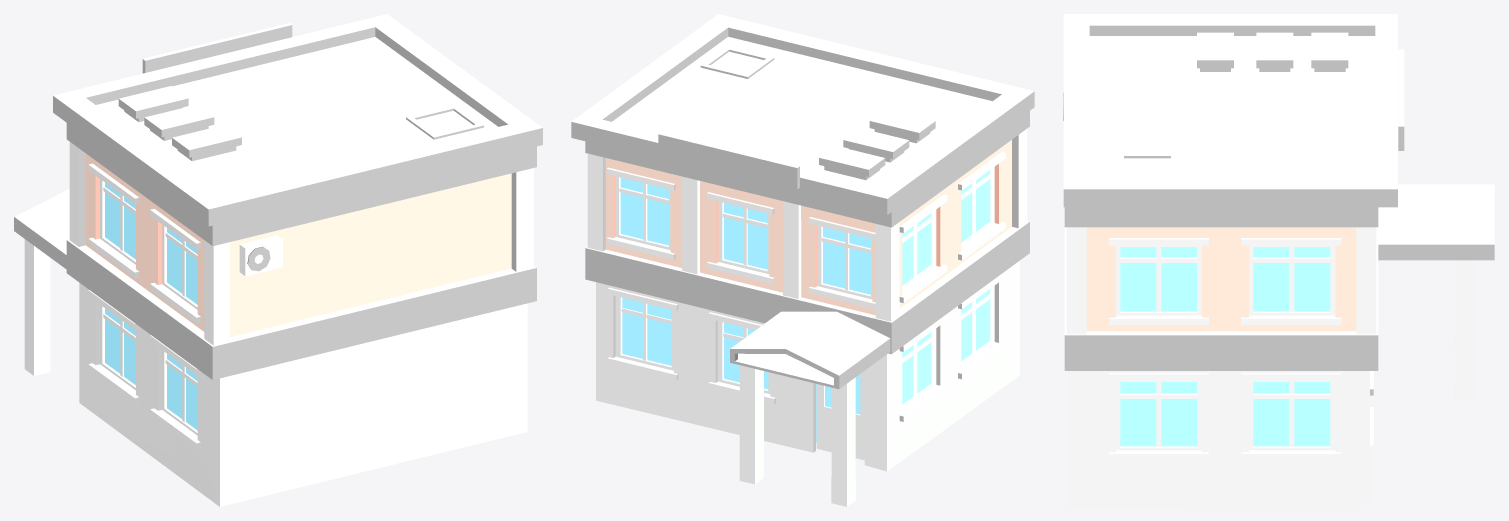
File: bank.001.glb
3 renders of one model, left to right at view 1: azimuth 30°, elevation 25°; view 2: azimuth 150°, elevation 25°; view 3: azimuth 270°, elevation 25°, orthographic. The views are drawn at different scales.
Visible parts, largest first — view 1: bank.001(Clone); view 2: bank.001(Clone); view 3: bank.001(Clone).
Boxes of the visible parts, x1,y1,x2,y2 form: bank.001(Clone): (14,14,542,506); bank.001(Clone): (571,14,1034,506); bank.001(Clone): (1063,14,1494,506).
Bounding box in the file's own units: 7.19 × 6.46 × 7.47.
Materials: 1 (1 with a texture image).
